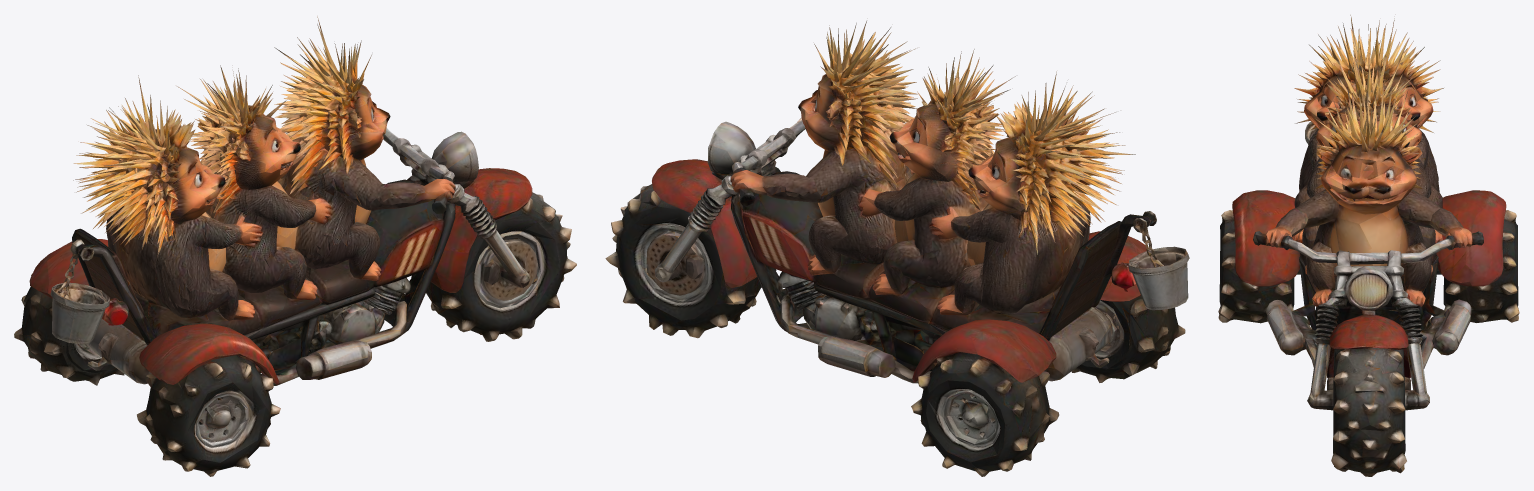
Rendered from flattyre.glb.
The picture shows the model from 3 angles, left to right: view 1: azimuth 30°, elevation 25°; view 2: azimuth 150°, elevation 25°; view 3: azimuth 270°, elevation 25°; orthographic projection. The views are drawn at different scales.
Bounding box in the file's own units: 1.9 × 1.2 × 1.02.
Materials: 1 (1 with a texture image).
